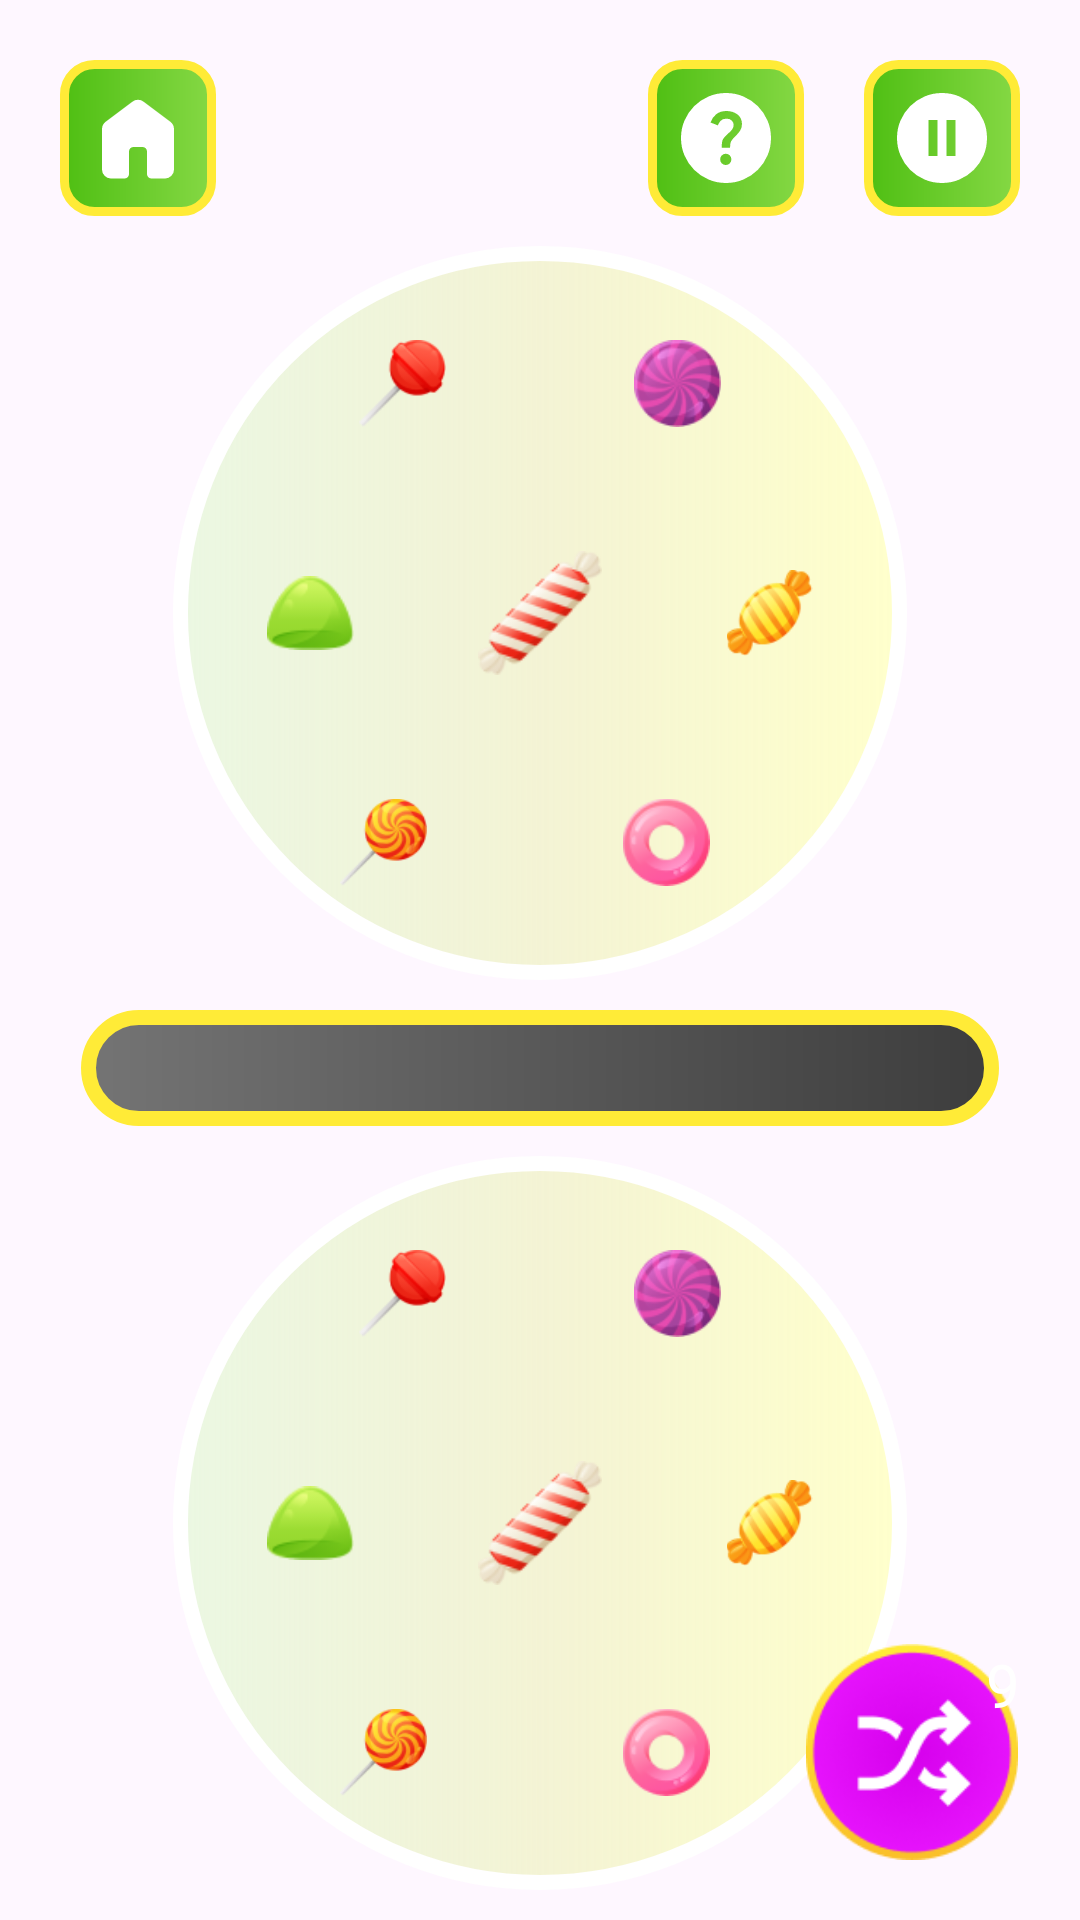

Where to tap for icons on this 1080 x 1920 app screen, as (x=x, y=y):
help empty: (x=726, y=138)
home without: (x=138, y=138)
pause empty: (x=942, y=138)
shuffle: (x=911, y=1752)
